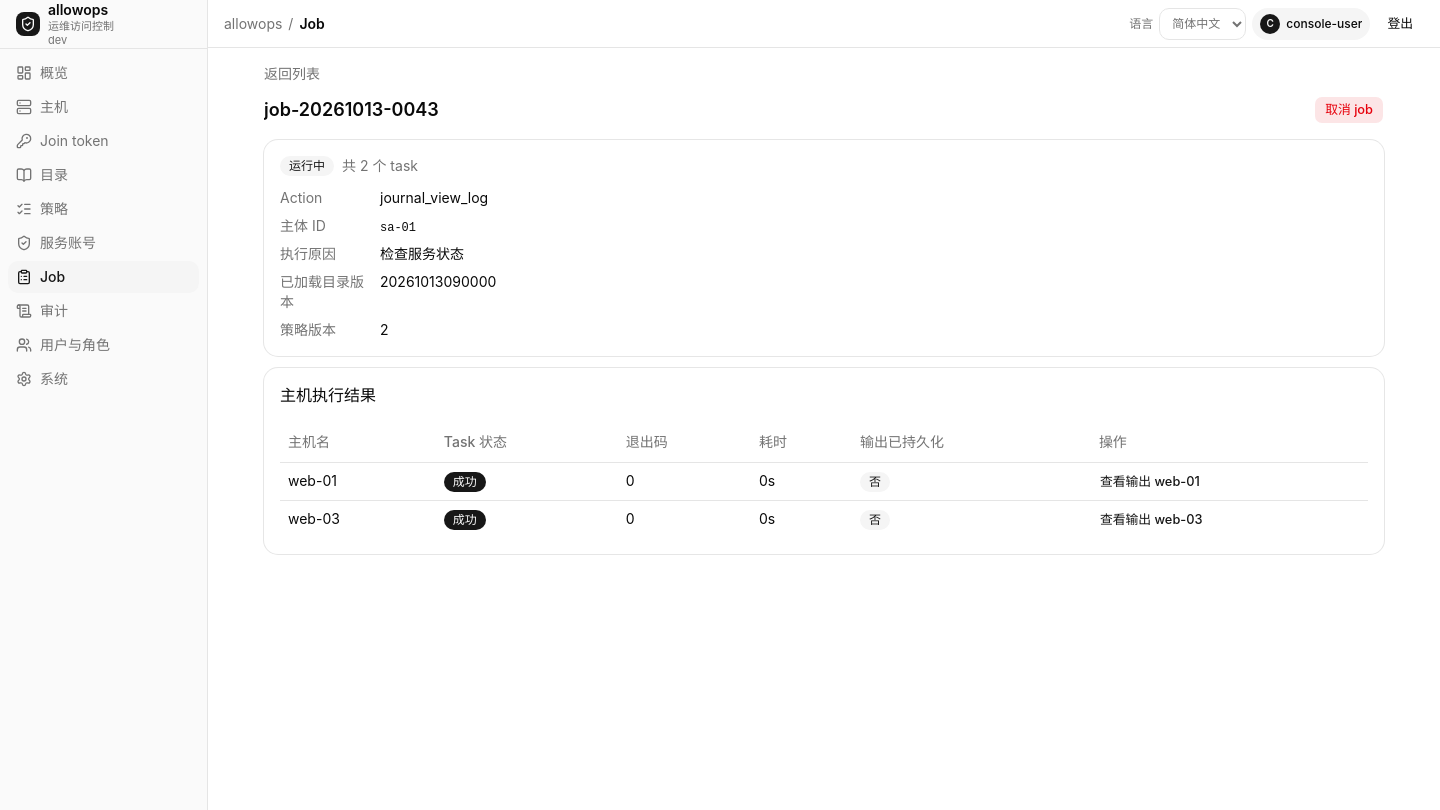
RR-d-04 output retries while storage is pending › retries OUTPUT_PENDING after retryAfter and then shows the output
The width and height of the screenshot is (1440, 810).
Click the button "查看输出 web-01" at (1150,482), box [1099,472,1201,492]
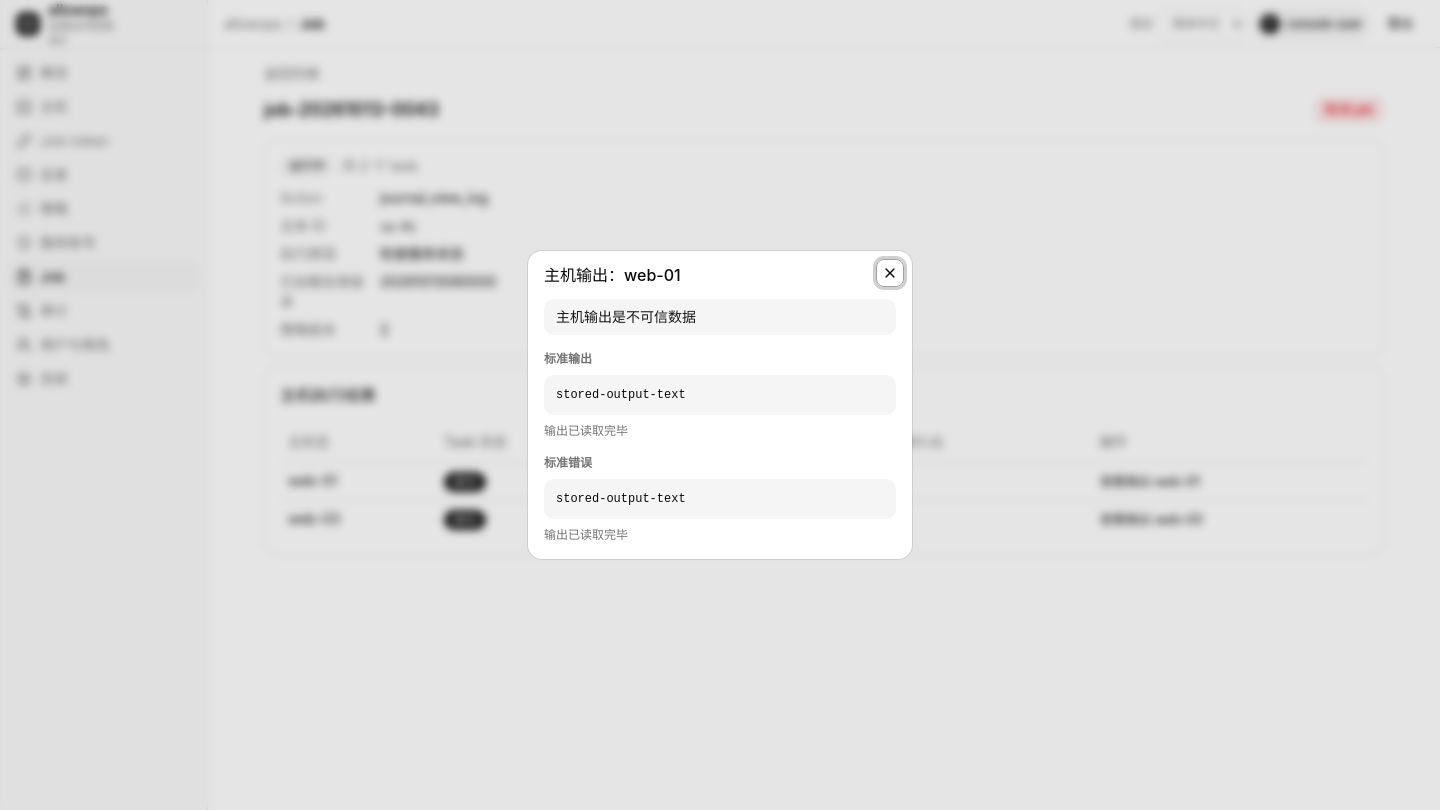
Result: the text "stored-output-text" below "标准输出" is shown at [556,388,686,402]
